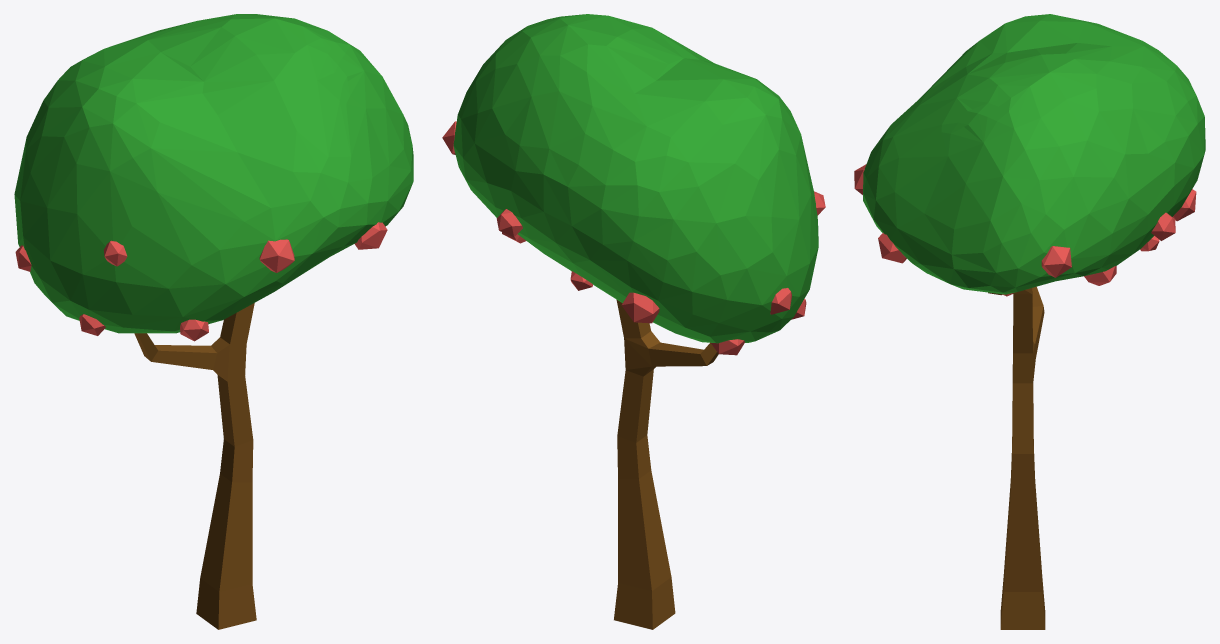
Rendered from Tree1.fbx.
3 renders of one model, left to right at view 1: azimuth 30°, elevation 25°; view 2: azimuth 150°, elevation 25°; view 3: azimuth 270°, elevation 25°, orthographic. The views are drawn at different scales.
Parts seen in each view (by area): view 1: Icosphere.015; view 2: Icosphere.015; view 3: Icosphere.015.
Part boxes in pixels (<box>): Icosphere.015: <box>14,14,413,629</box>; Icosphere.015: <box>442,14,825,629</box>; Icosphere.015: <box>854,14,1205,629</box>.
Bounding box in the file's own units: 174 × 271 × 149.
